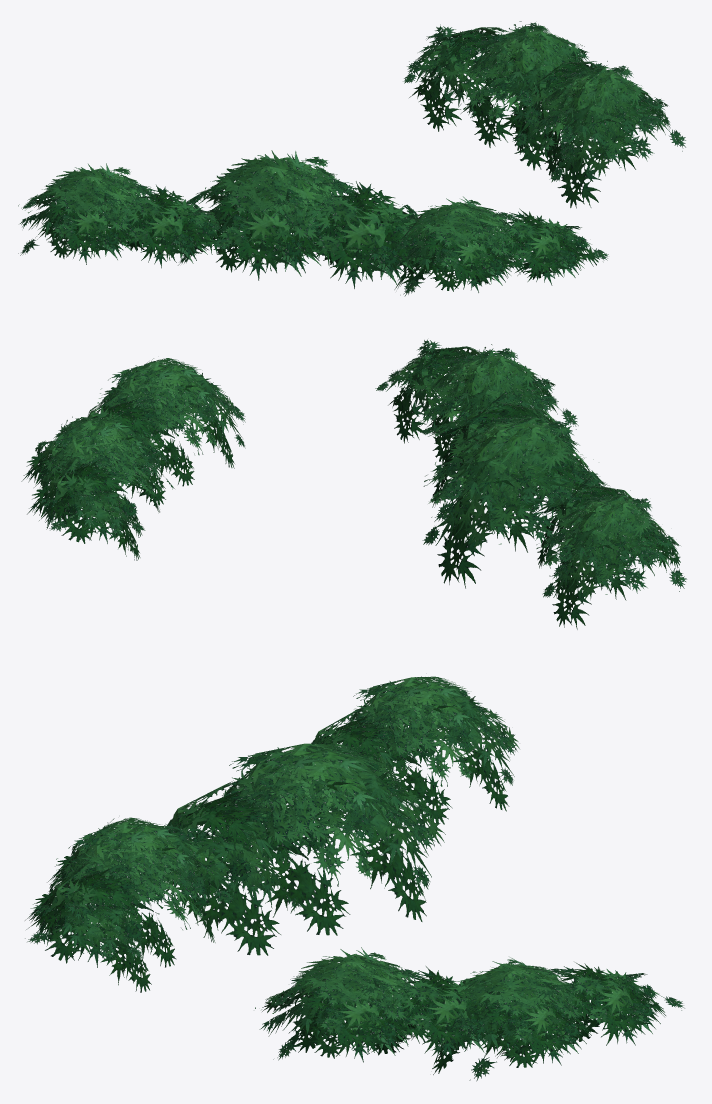
File: Area_07_27.fbx
The picture shows the model from 3 angles, top to bottom: view 1: azimuth 30°, elevation 25°; view 2: azimuth 150°, elevation 25°; view 3: azimuth 270°, elevation 25°; orthographic projection. The views are drawn at different scales.
Visible parts, largest first — view 1: Area_07_27; view 2: Area_07_27; view 3: Area_07_27.
Boxes of the visible parts, bbox=[...] form: Area_07_27: bbox=[18, 21, 685, 296]; Area_07_27: bbox=[21, 339, 686, 629]; Area_07_27: bbox=[25, 676, 684, 1081].
Size of the model in its own units: 2320 by 516 by 1821.
